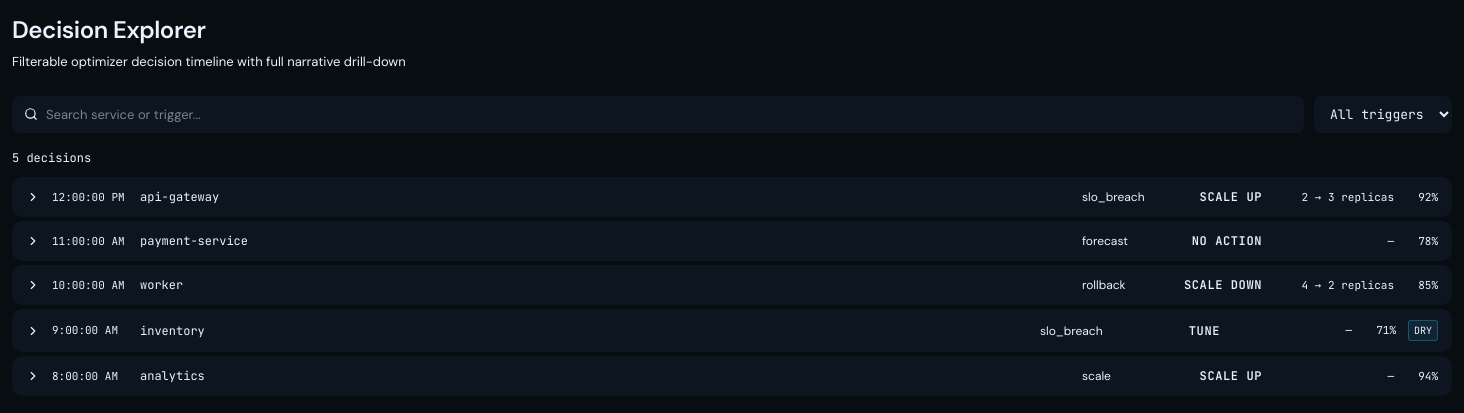
Test case: DecisionExplorer › filters decisions by typing a service name
Type "worker" into the field named "search decisions" at (658, 114), box [12,96,1304,133]
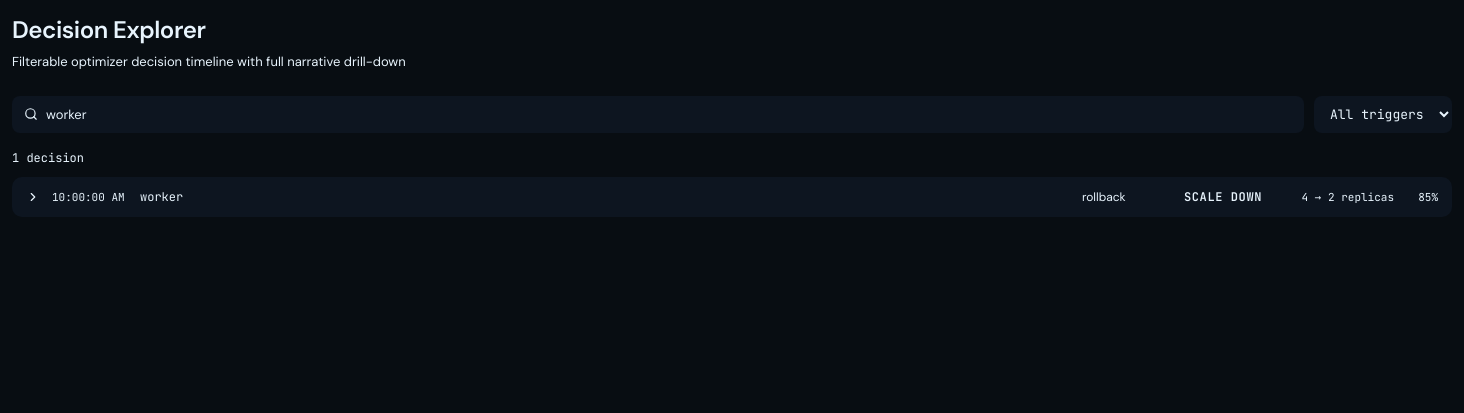
Expected: the text "worker" is shown, [140,189,183,205]
Expected: the text "1 decision" is shown, [12,150,84,166]
Expected: the button "api-gateway" is gone
